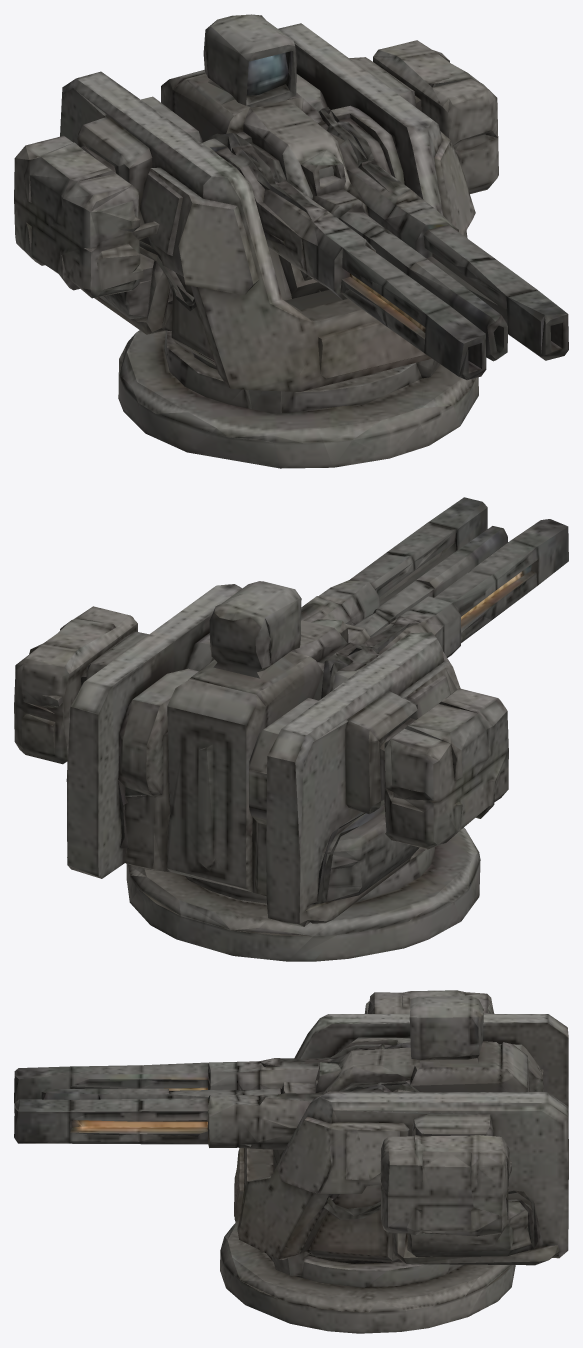
Rendered from struct.ranged_defense.head3.glb.
The picture shows the model from 3 angles, top to bottom: view 1: azimuth 30°, elevation 25°; view 2: azimuth 150°, elevation 25°; view 3: azimuth 270°, elevation 25°; orthographic projection. The views are drawn at different scales.
Visible parts, largest first — view 1: body; view 2: body; view 3: body.
Boxes of the visible parts, bbox=[...] form: body: bbox=[14, 14, 568, 468]; body: bbox=[14, 497, 568, 961]; body: bbox=[14, 990, 568, 1333].
Bounding box in the file's own units: 0.8787 × 0.6414 × 1.2.
1 material, 1 textured.
